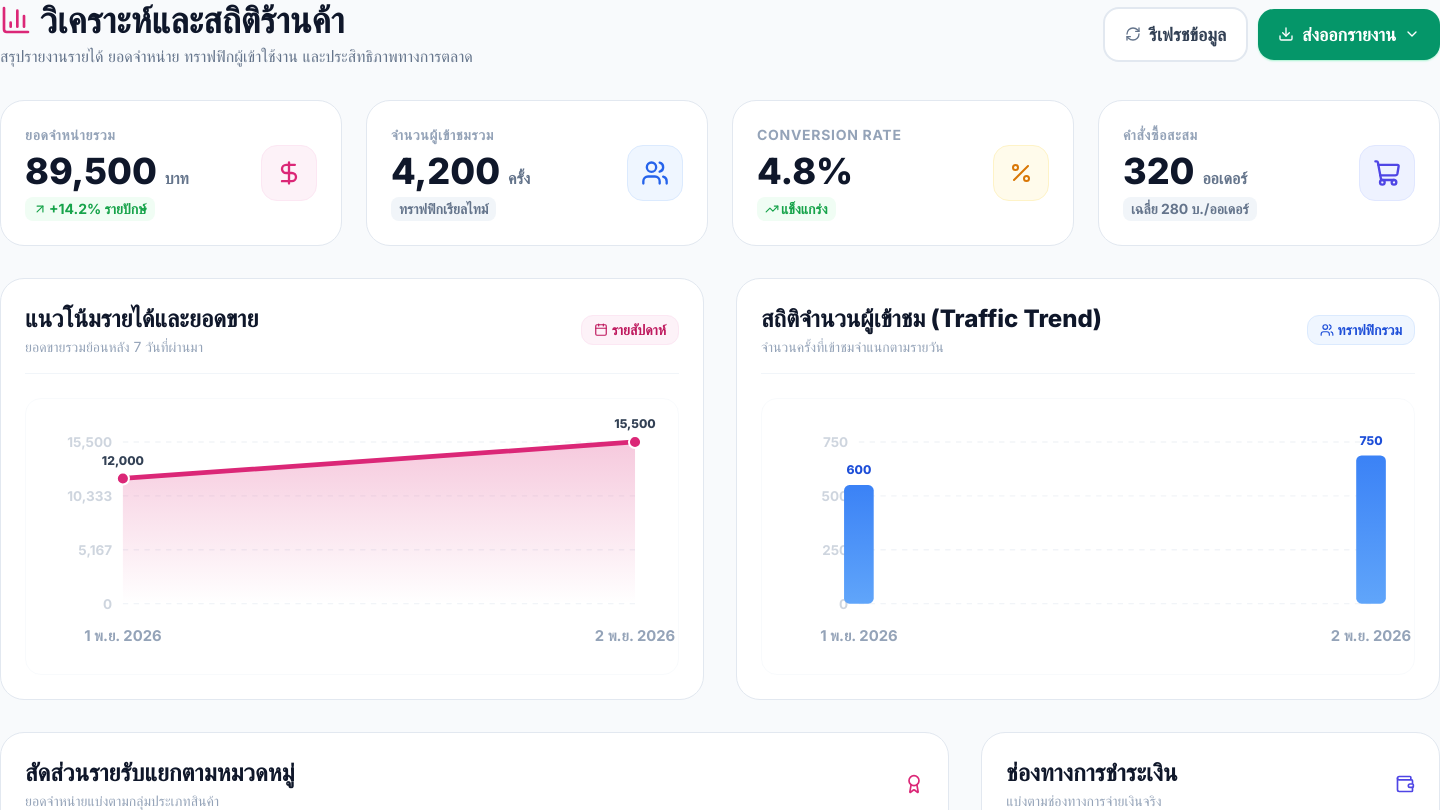
it: AnalyticsPage - Sales Report Export Tests › exports all orders report by fetching orders list
Expected: the text "ส่งออกรายงาน" is shown, [1302, 20, 1396, 48]
Click the button "ส่งออกรายงาน" at (1349, 34), box [1258, 8, 1439, 60]
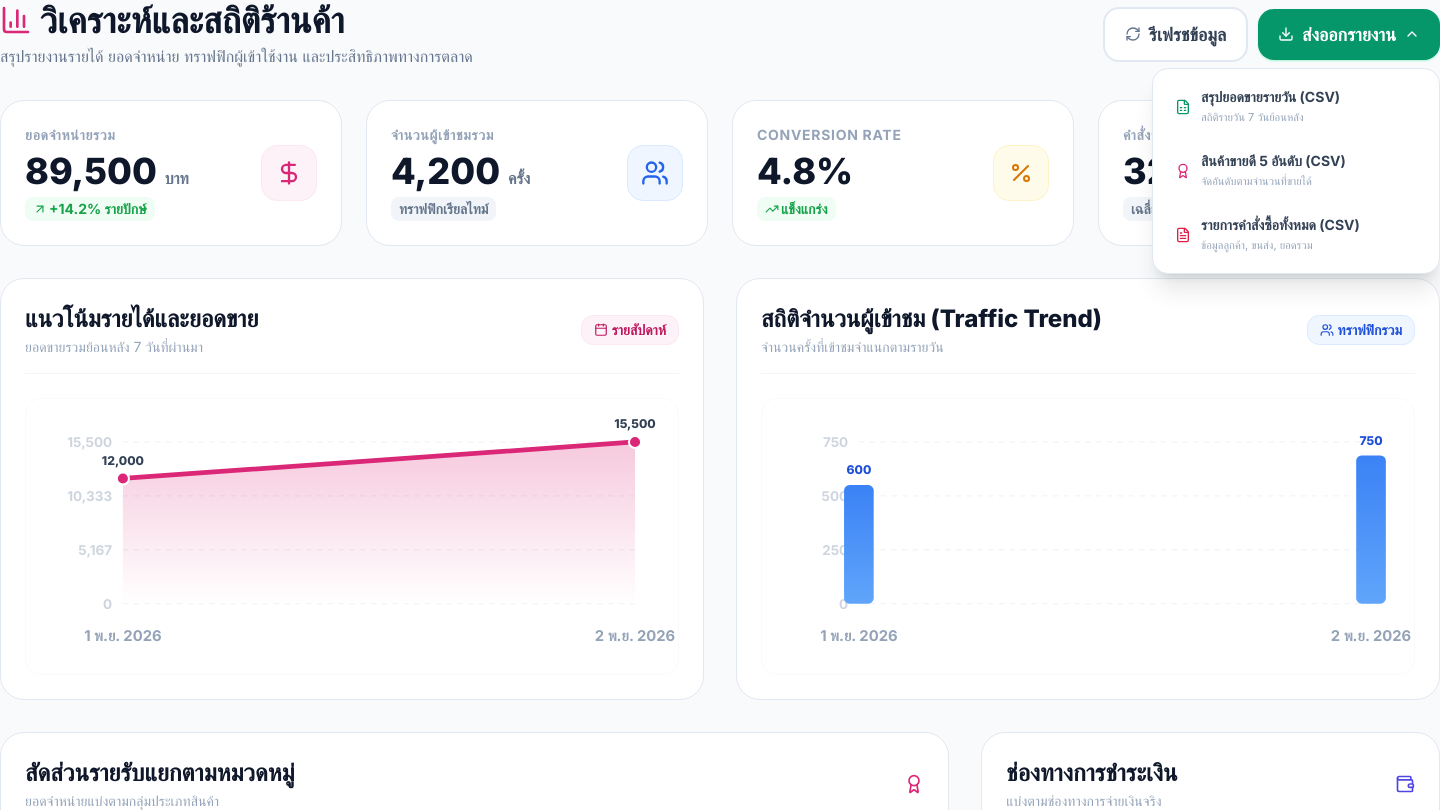
Click the text "รายการคำสั่งซื้อทั้งหมด (CSV)" at (1280, 224), box [1201, 214, 1360, 234]
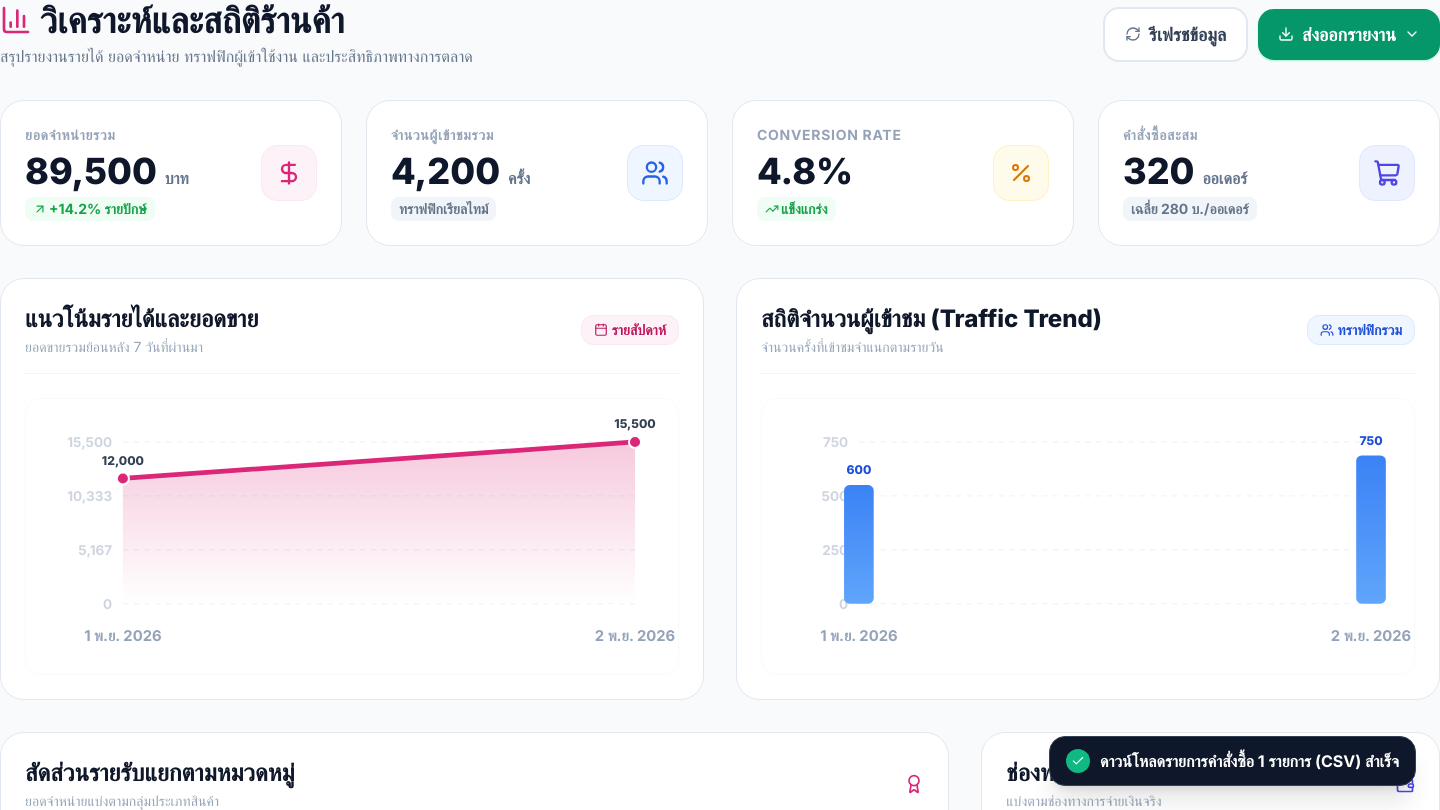
Now the text "ดาวน์โหลดรายการคำสั่งซื้อ 1 รายการ (CSV) สำเร็จ" is shown, box [1100, 749, 1399, 773]
